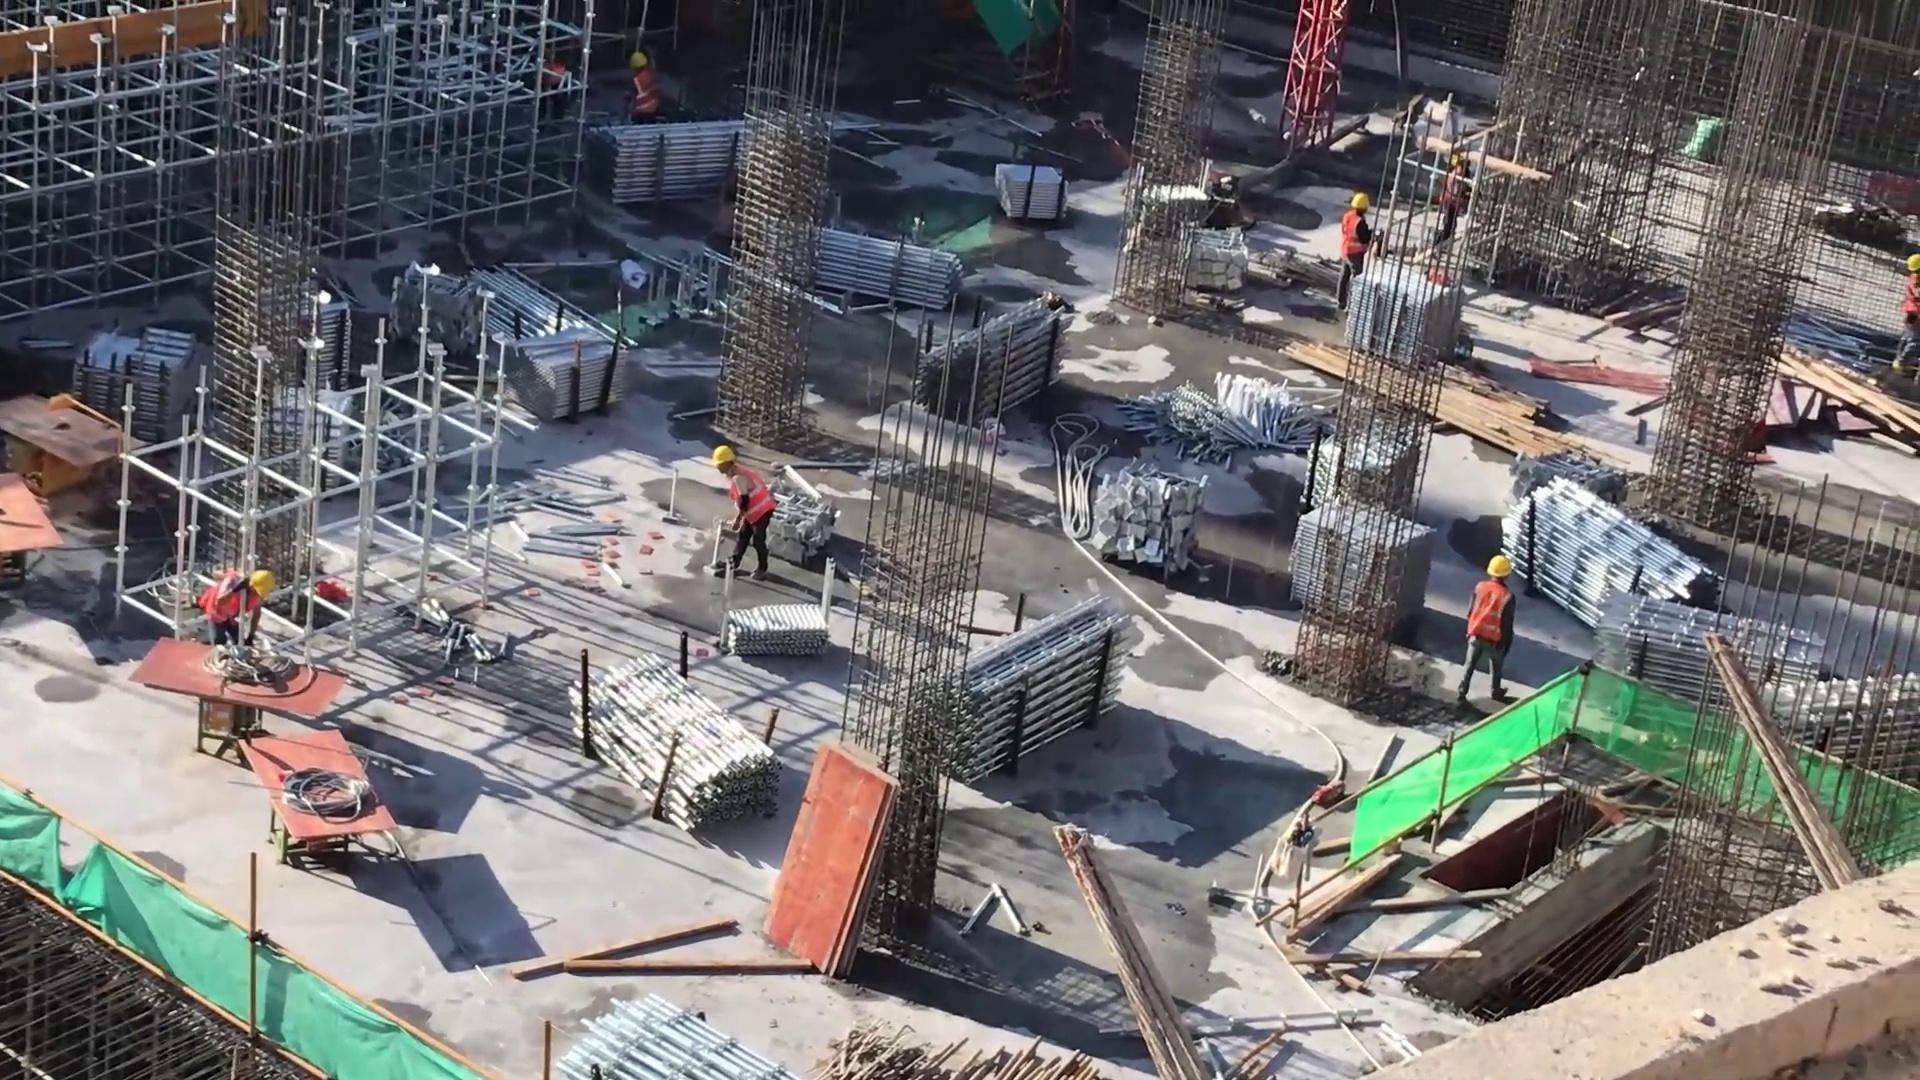board: (760, 740, 907, 981)
cutter: (112, 621, 362, 770), (234, 717, 420, 905), (1, 391, 144, 513), (1, 466, 56, 624)
helmet: (1473, 552, 1523, 588), (711, 440, 741, 480), (246, 570, 276, 604), (1346, 191, 1372, 225), (629, 49, 651, 76), (1902, 249, 1920, 278)
person: (1447, 543, 1527, 719), (707, 440, 782, 582), (196, 562, 280, 656), (1333, 181, 1377, 330), (1894, 234, 1920, 418), (623, 51, 662, 134)
scaffold: (913, 588, 1137, 774), (1499, 473, 1737, 642), (572, 653, 775, 842), (546, 973, 814, 1080), (1622, 602, 1835, 718), (1759, 674, 1920, 797), (918, 303, 1071, 428), (785, 219, 959, 316), (590, 115, 791, 196), (458, 263, 616, 362), (79, 328, 191, 451), (511, 327, 628, 424), (725, 588, 830, 665), (305, 295, 358, 394)
vest: (1466, 578, 1518, 661), (725, 462, 779, 535), (201, 570, 258, 636), (1338, 208, 1372, 260), (631, 69, 659, 122), (1901, 275, 1920, 319)
